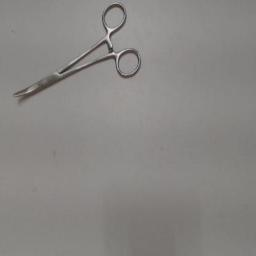Crile Artery Forceps: (8, 0, 144, 104)
